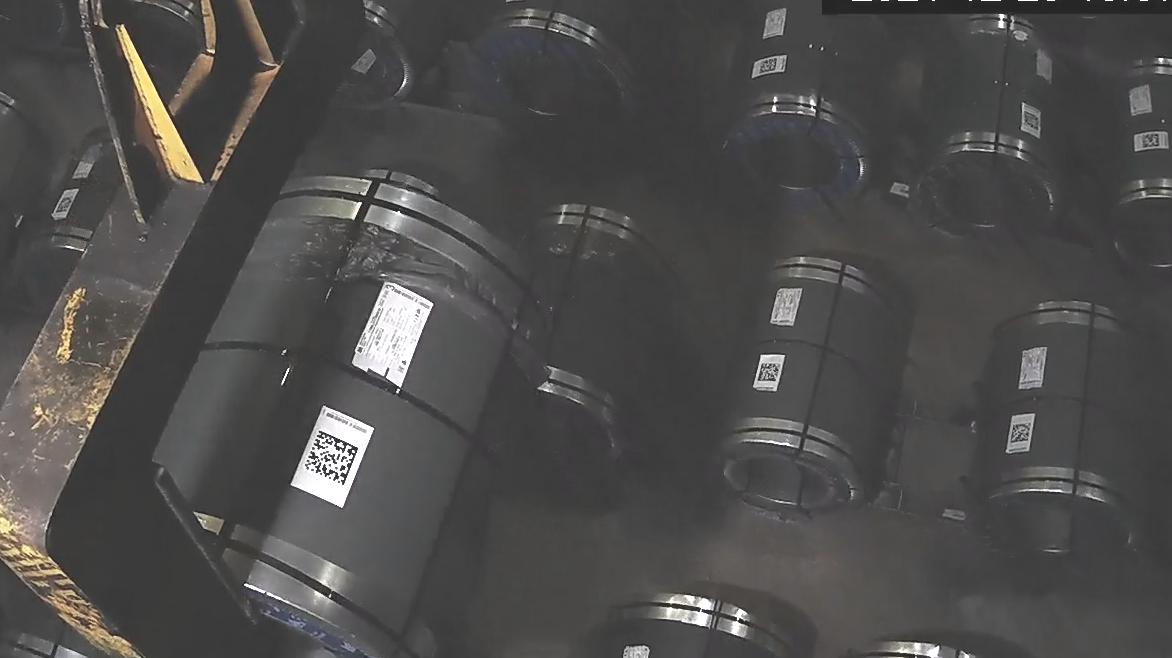data matrix: (299, 427, 363, 489), (756, 361, 783, 385), (1009, 422, 1034, 446), (1023, 110, 1042, 134), (1141, 132, 1162, 151), (759, 57, 779, 76)
